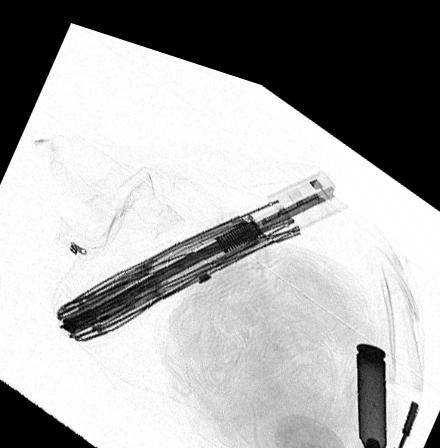Bullet: (356, 320, 387, 448)
Gun: (383, 373, 419, 448)
